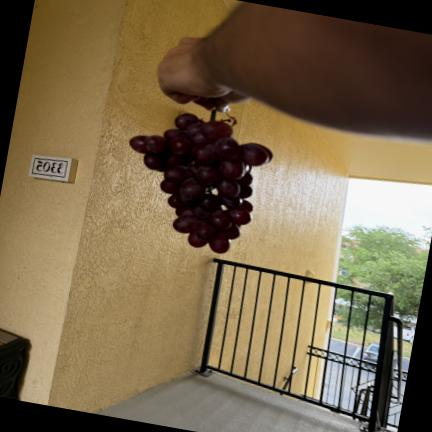grape_cluster: (130, 111, 273, 254)
